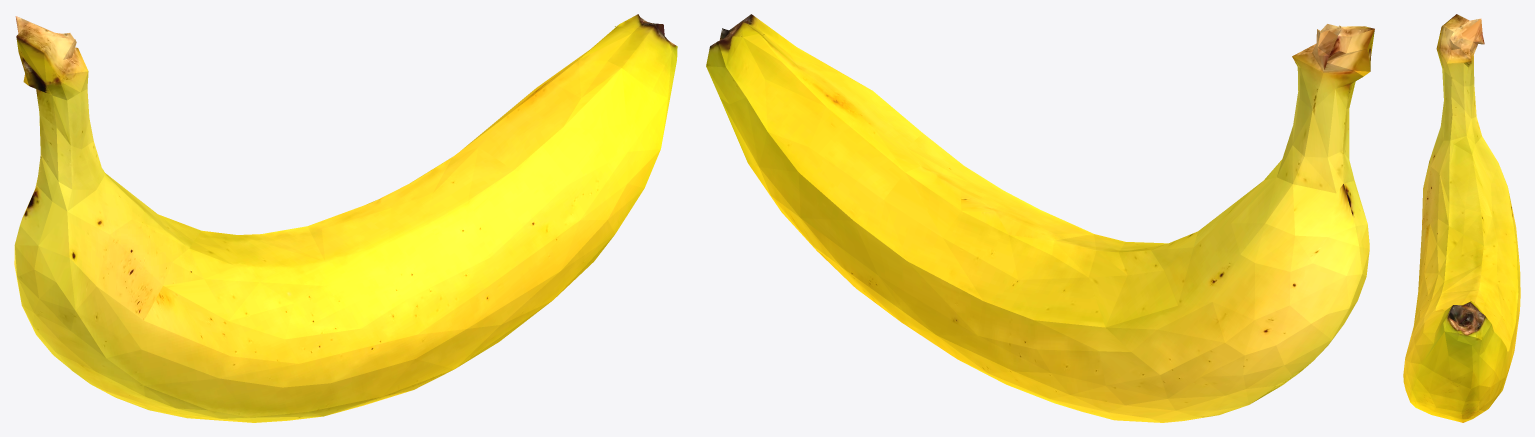
The model's file is banana-v1-transformed.glb.
3 views of the same model, side by side, from view 1: azimuth 30°, elevation 25°; view 2: azimuth 150°, elevation 25°; view 3: azimuth 270°, elevation 25° (orthographic). The views are drawn at different scales.
Parts seen in each view (by area): view 1: banana; view 2: banana; view 3: banana.
Boxes of the visible parts, x1,y1,x2,y2 form: banana: [14, 14, 677, 422]; banana: [706, 14, 1374, 422]; banana: [1403, 14, 1520, 422].
Size of the model in its own units: 6.79 by 4.42 by 1.62.
1 material, 1 textured.
